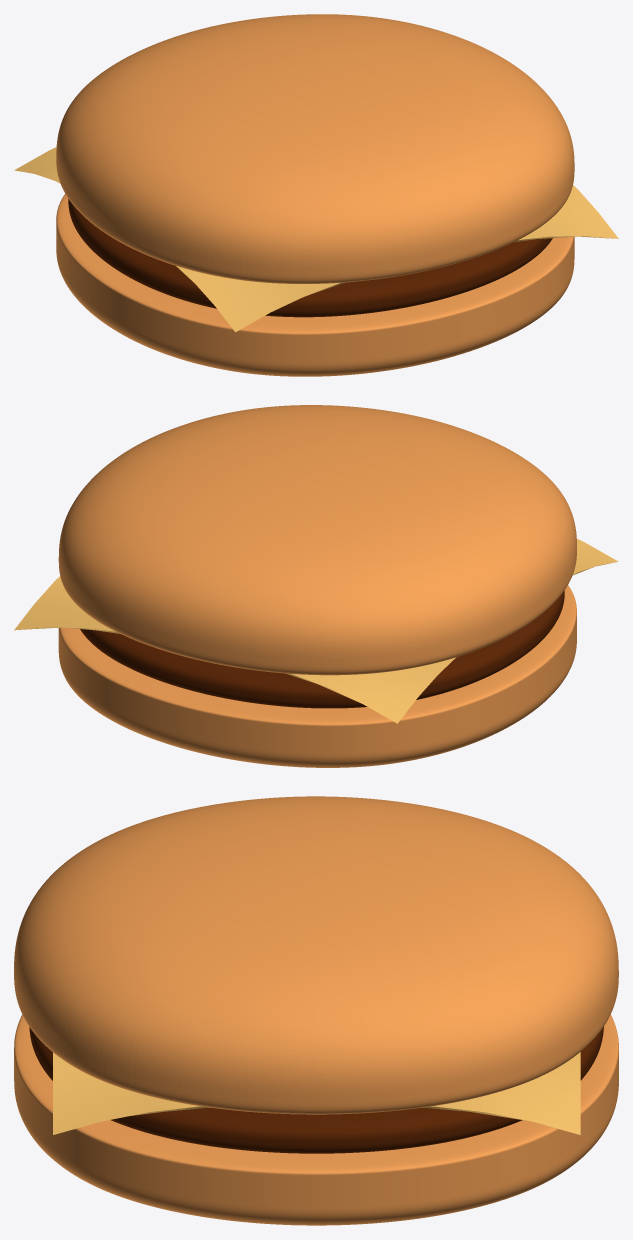
The model's file is hamburger-draco-blender.glb.
3 renders of one model, top to bottom at view 1: azimuth 30°, elevation 25°; view 2: azimuth 150°, elevation 25°; view 3: azimuth 270°, elevation 25°, orthographic. The views are drawn at different scales.
Parts seen in each view (by area): view 1: top-bum, button-bun, meat, cheese; view 2: top-bum, button-bun, meat, cheese; view 3: top-bum, button-bun, meat, cheese.
Part boxes in pixels (x1=…): top-bum: x1=56, y1=14, x2=574, y2=283; button-bun: x1=56, y1=194, x2=574, y2=376; meat: x1=68, y1=199, x2=552, y2=317; cheese: x1=14, y1=147, x2=618, y2=332; top-bum: x1=58, y1=405, x2=576, y2=675; button-bun: x1=58, y1=585, x2=576, y2=767; meat: x1=80, y1=590, x2=564, y2=708; cheese: x1=14, y1=539, x2=618, y2=723; top-bum: x1=14, y1=796, x2=618, y2=1114; button-bun: x1=14, y1=1014, x2=618, y2=1225; meat: x1=29, y1=1026, x2=603, y2=1153; cheese: x1=53, y1=1052, x2=580, y2=1134.
Size of the model in its own units: 18.33 by 8.53 by 18.34.
